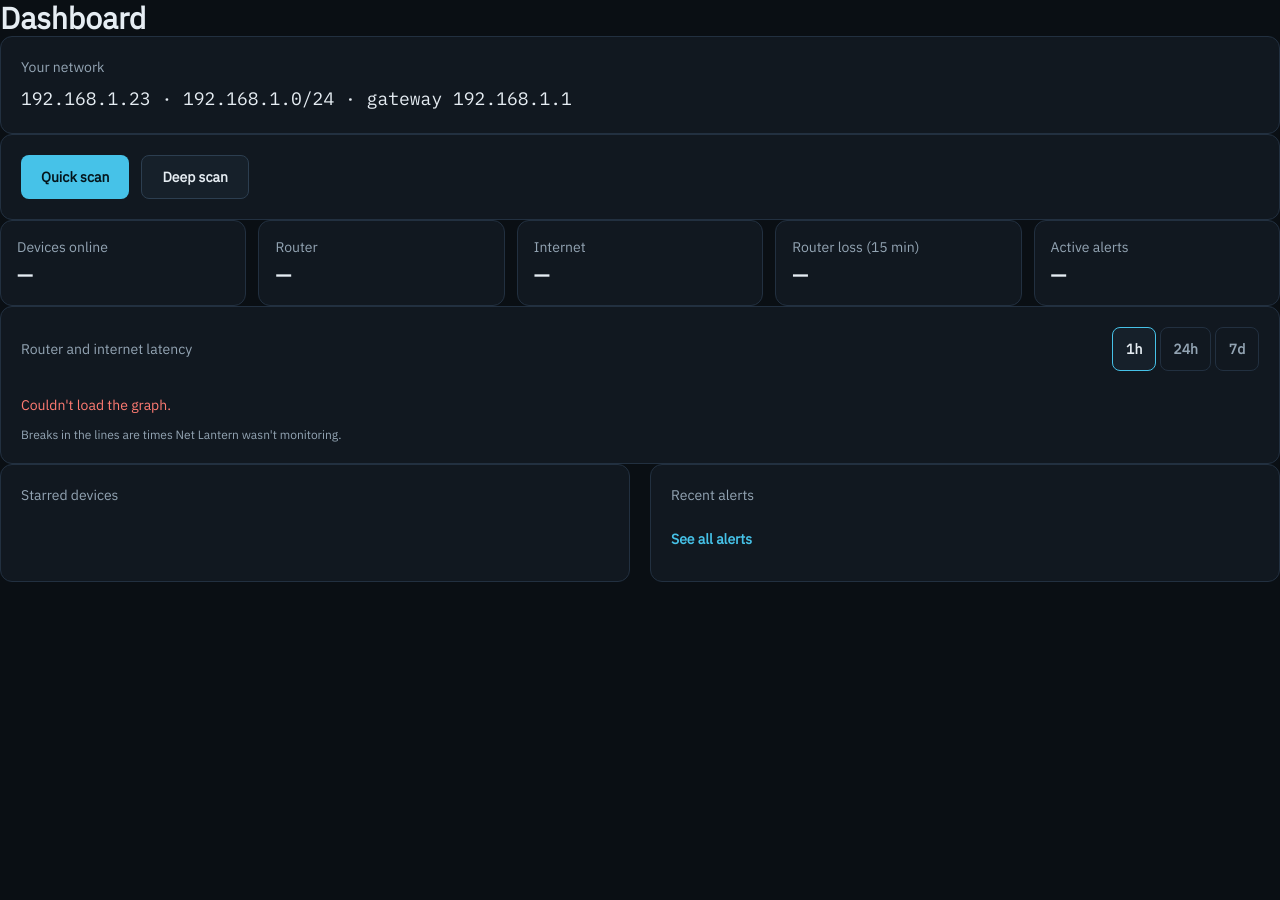
Scenario: Dashboard › "Not now" closes the prompt without scanning
Expected: the text "192.168.1.23 · 192.168.1.0/24 · gateway 192.168.1.1" is shown, [21,87,572,110]
Click the button "Deep scan": (195, 177) [141,155,249,199]
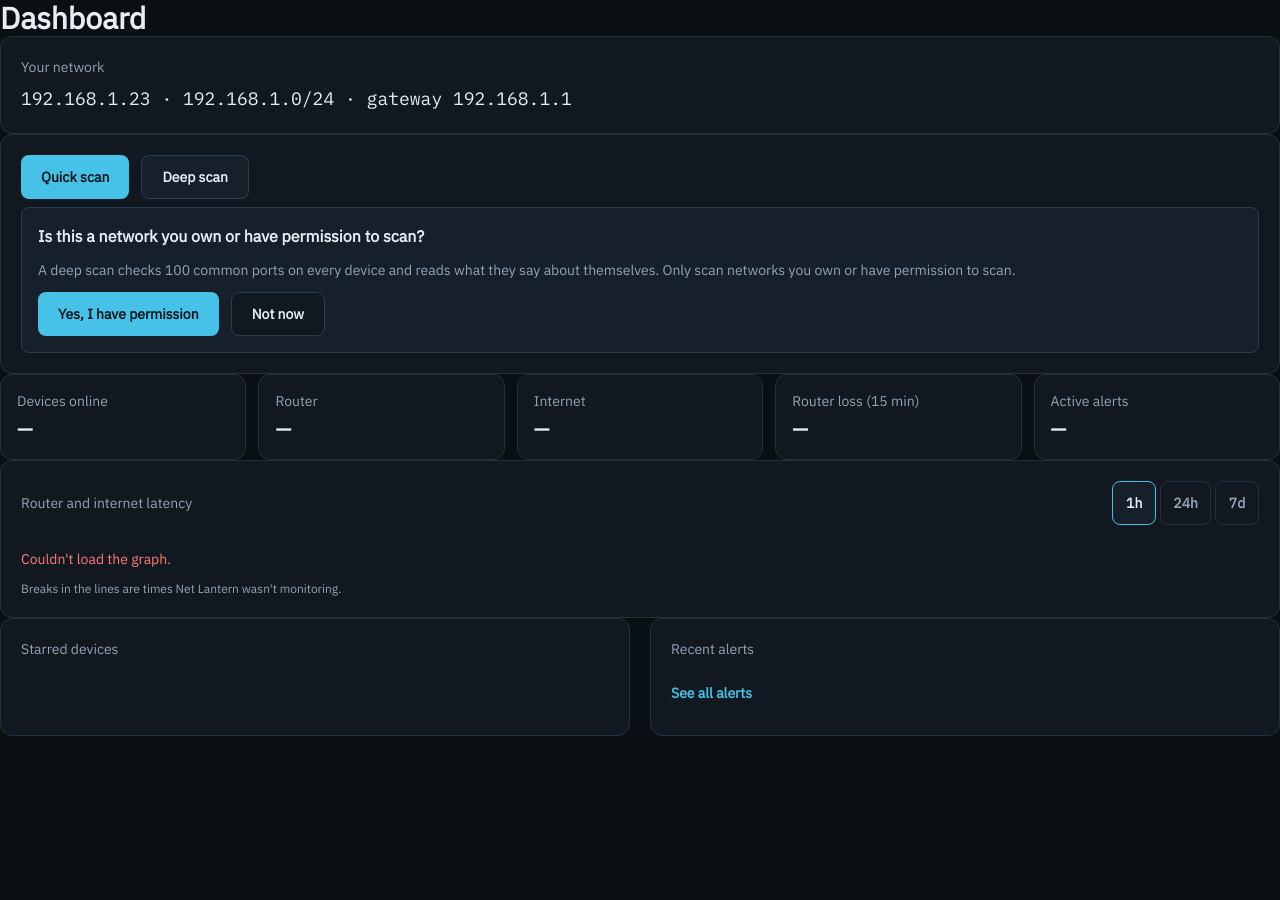
Click the button "Not now": (278, 314) [231,292,325,336]
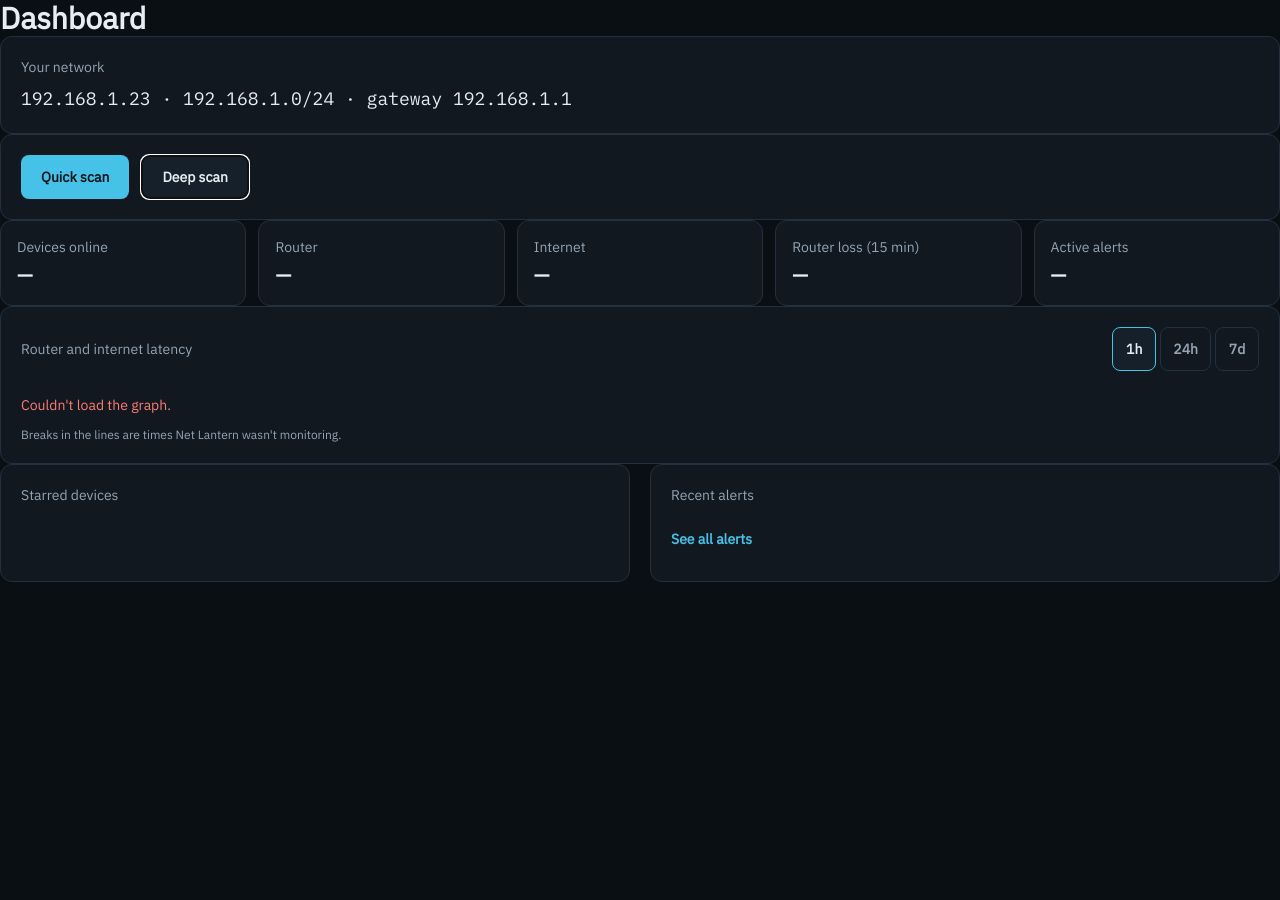
Result: the dialog is gone
